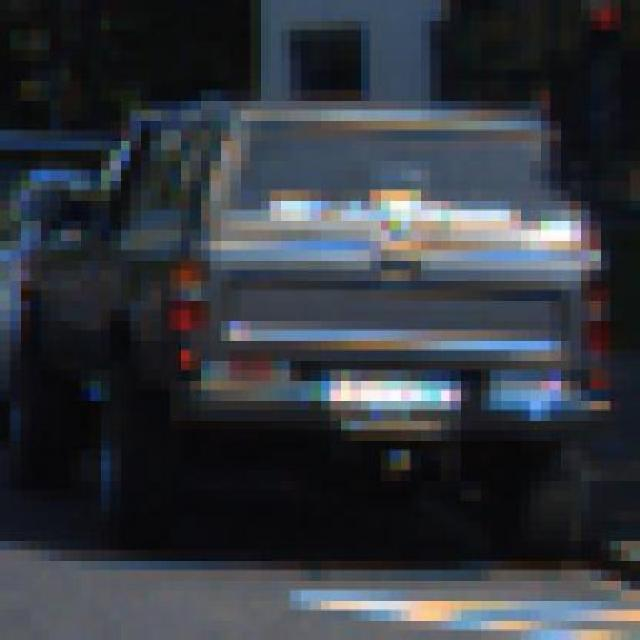vehicle: (14, 90, 640, 554)
